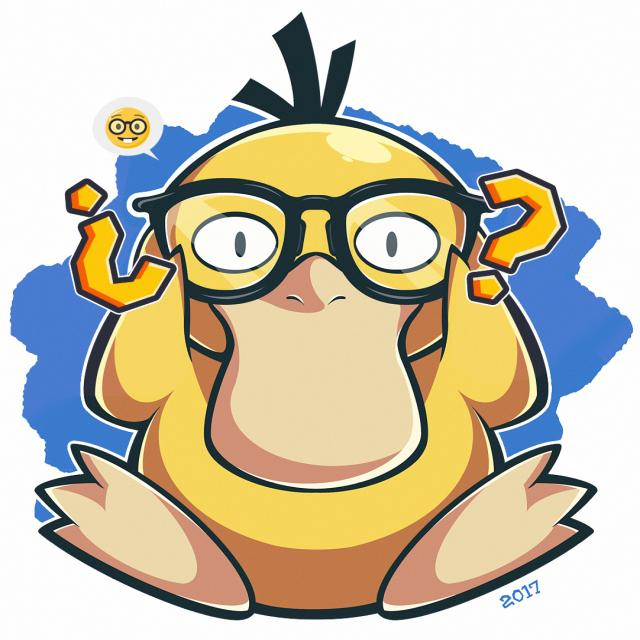Psyduck: (102, 126, 576, 608)
